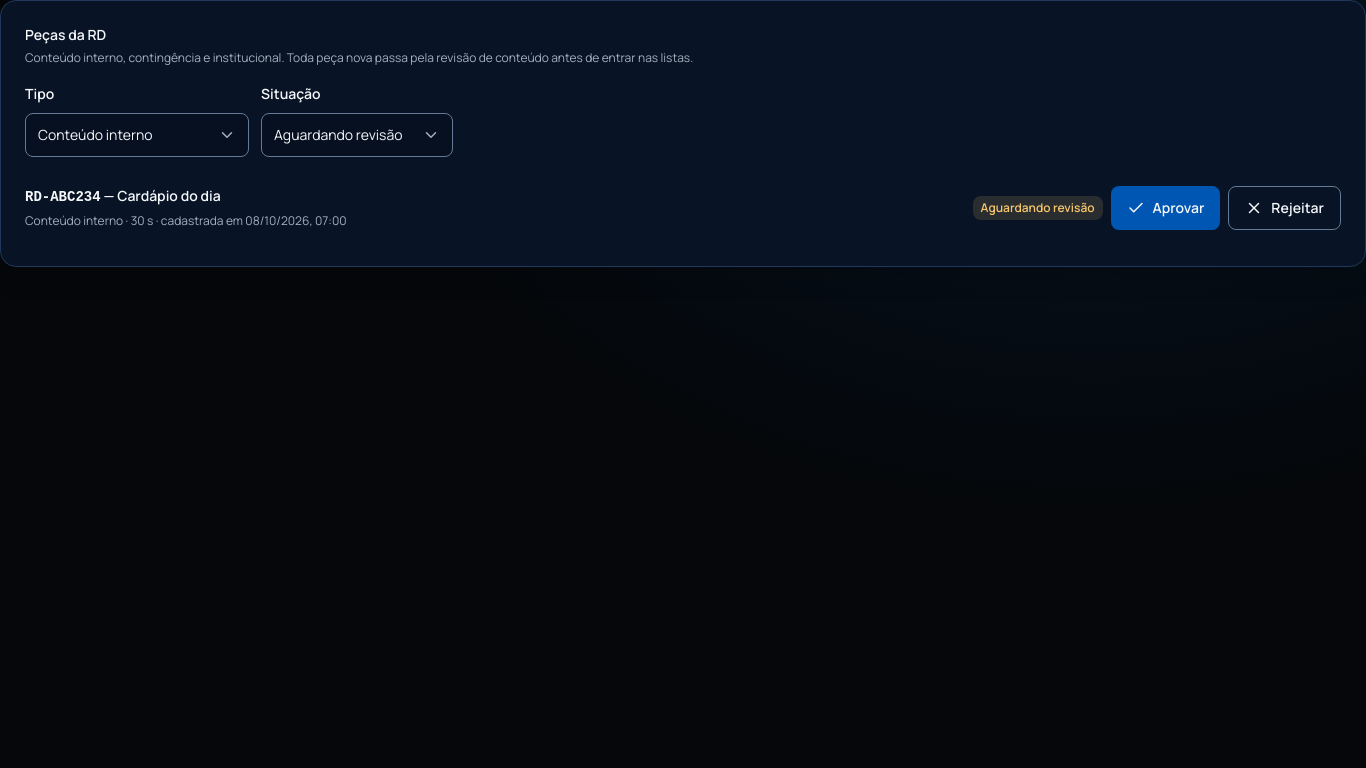
Peças da RD: cadastro e revisão de conteúdo (POST /creatives/{id}/review) › mídia ainda não pronta: o erro do servidor aparece no diálogo de aprovação
Click the button with aria-label "Aprovar a peça RD-ABC234": (1166, 208) [1111,186,1220,230]
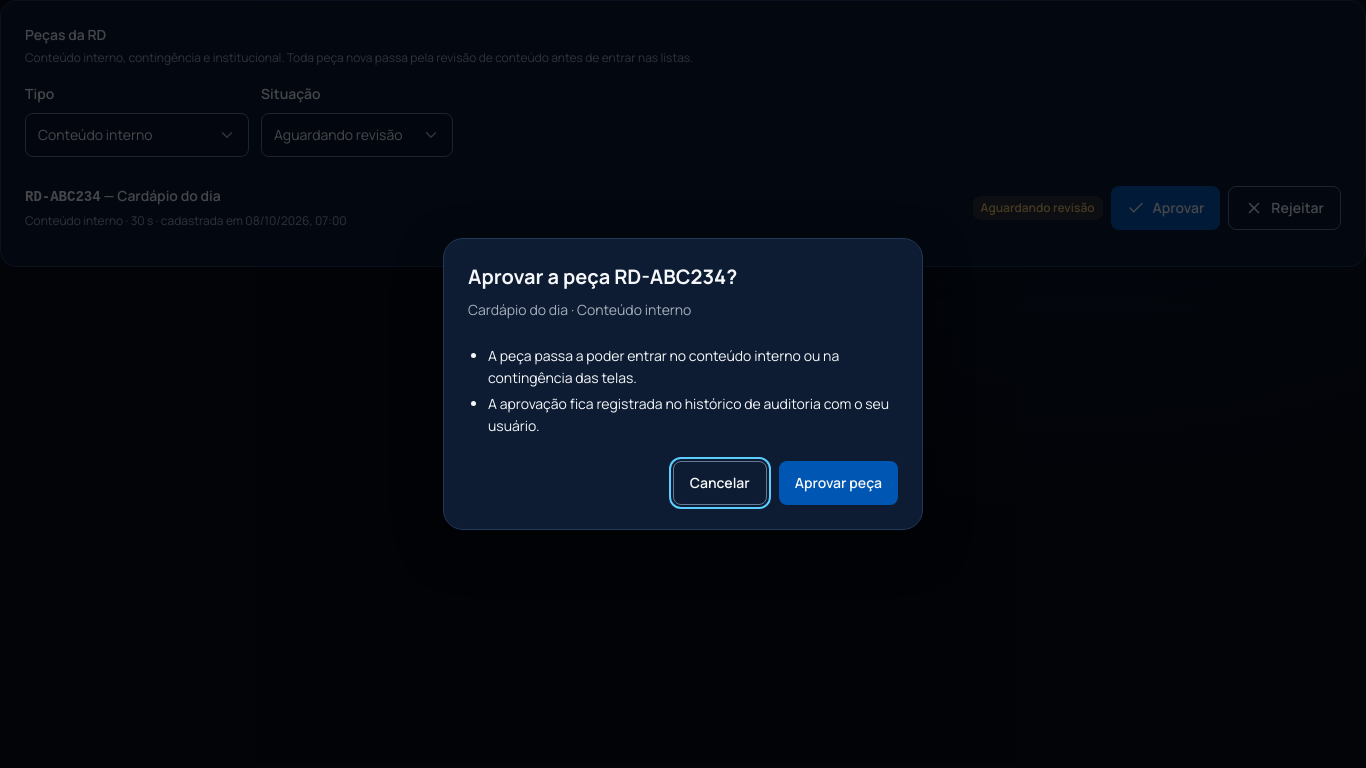
Click the button "Aprovar peça": (838, 483) [779,461,898,505]
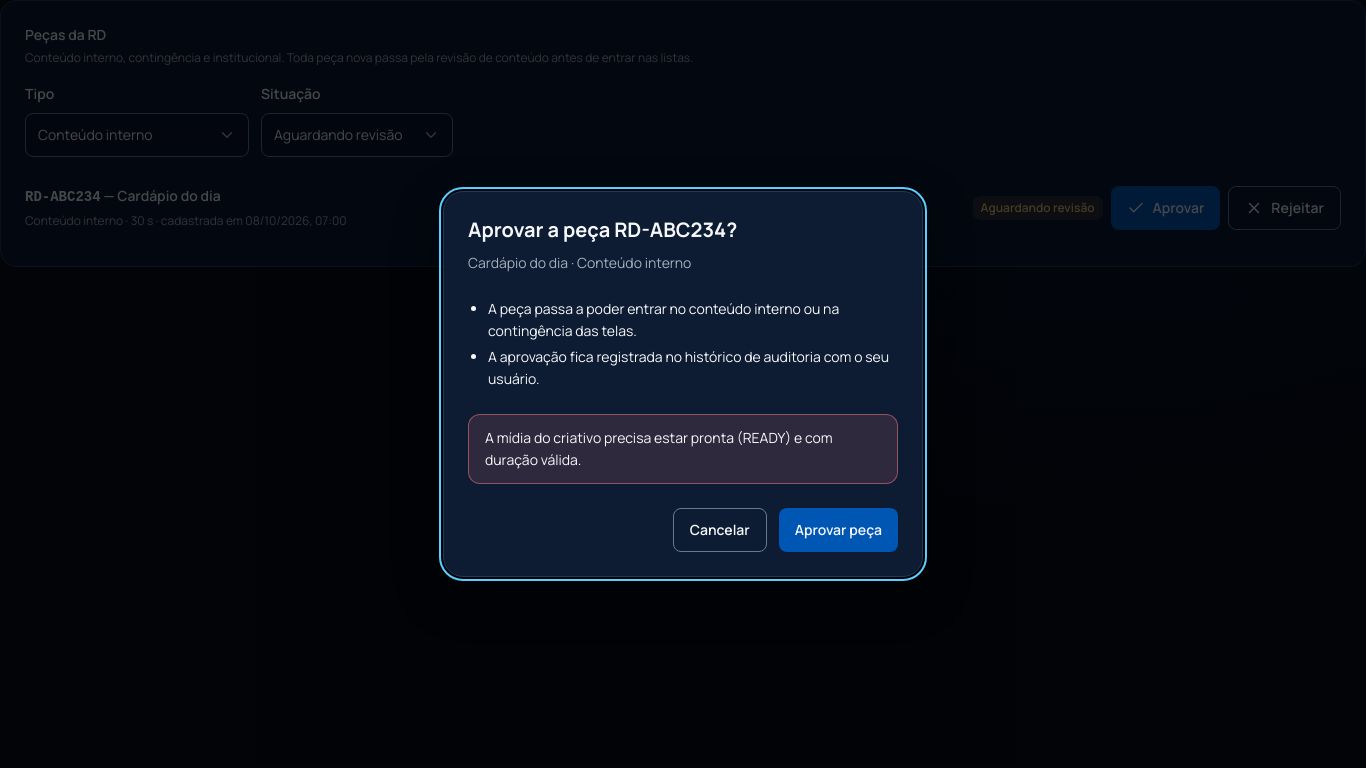
Expected: the text "precisa estar pronta" is shown, [485,428,833,469]
